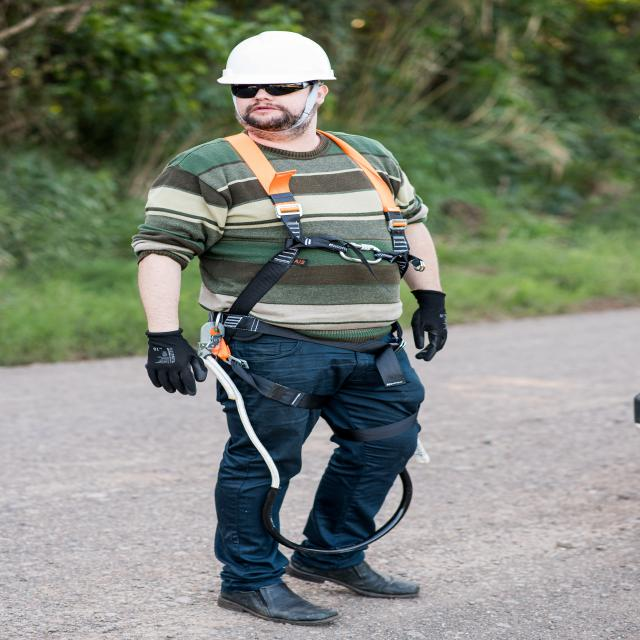botas: (285, 545, 426, 607), (214, 570, 346, 632)
capacete: (212, 28, 340, 88)
corda de vida: (199, 122, 421, 404)
luva: (136, 324, 211, 401), (405, 286, 456, 367)
